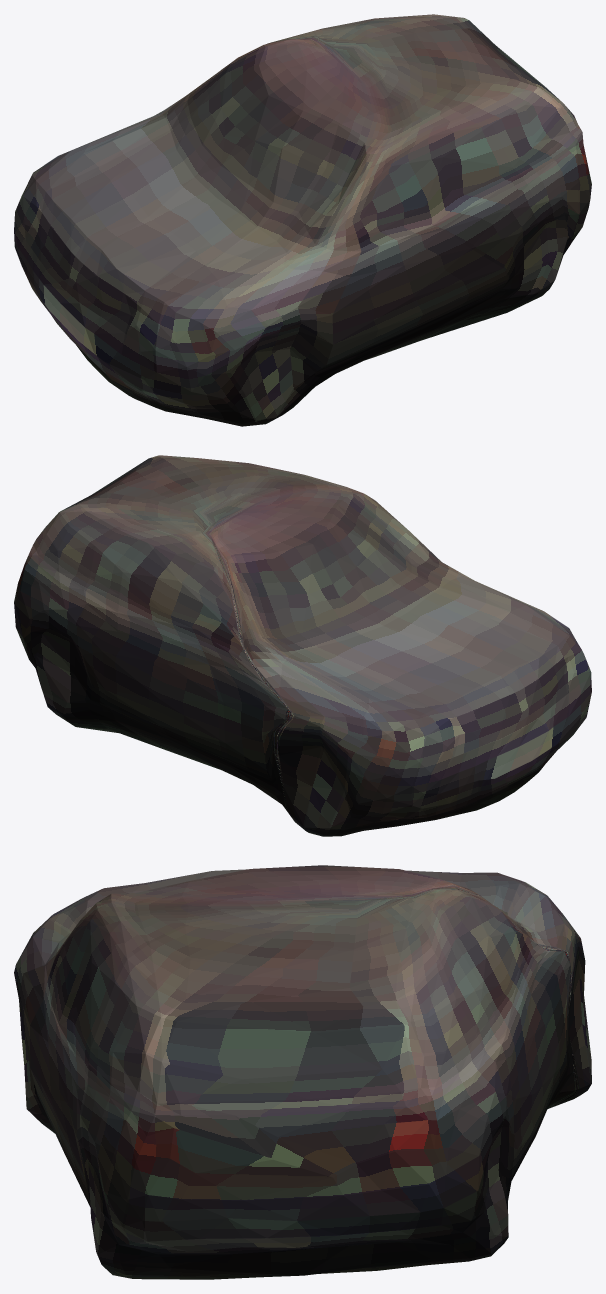
The model's file is video3_394.obj.
3 views of the same model, one above another, from view 1: azimuth 30°, elevation 25°; view 2: azimuth 150°, elevation 25°; view 3: azimuth 270°, elevation 25° (orthographic). The views are drawn at different scales.
Bounding box in the file's own units: 1 × 0.4954 × 0.736.
1 material, 1 textured.
